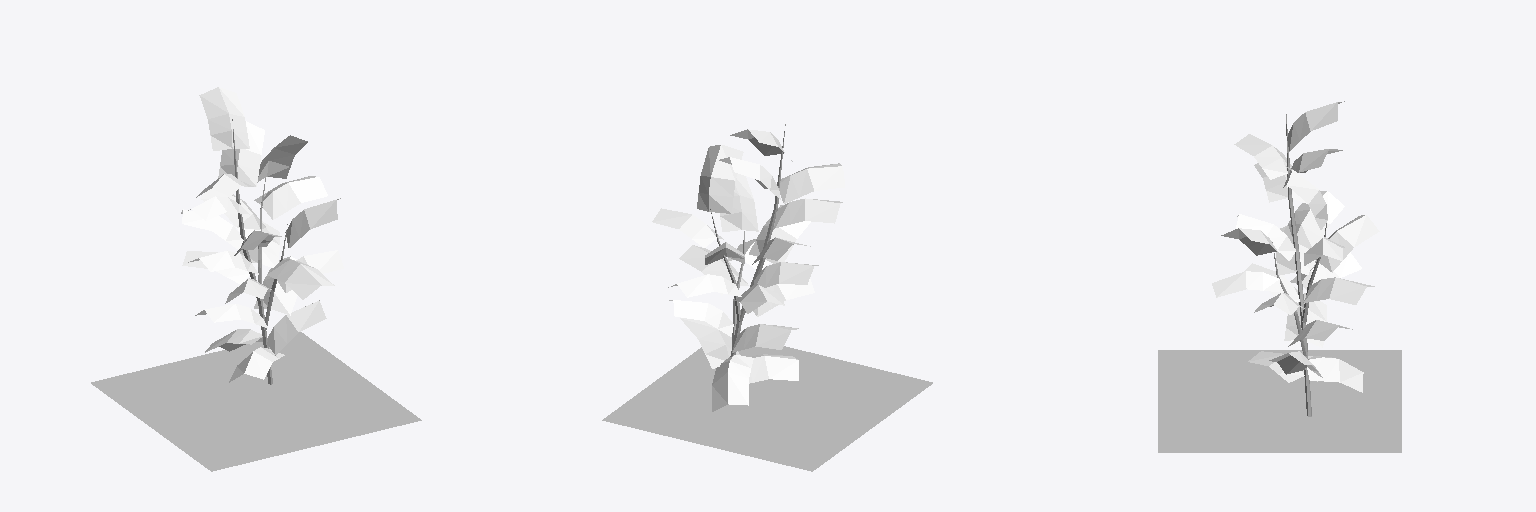
The model's file is plant.obj.
The picture shows the model from 3 angles: view 1: azimuth 30°, elevation 25°; view 2: azimuth 150°, elevation 25°; view 3: azimuth 270°, elevation 25°; orthographic projection.
Bounding box in the file's own units: 3.99 × 5.41 × 3.99.